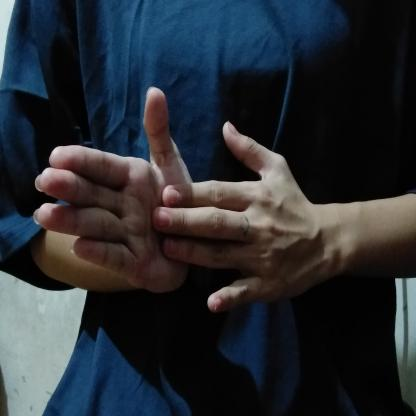mother: (30, 82, 416, 315)
